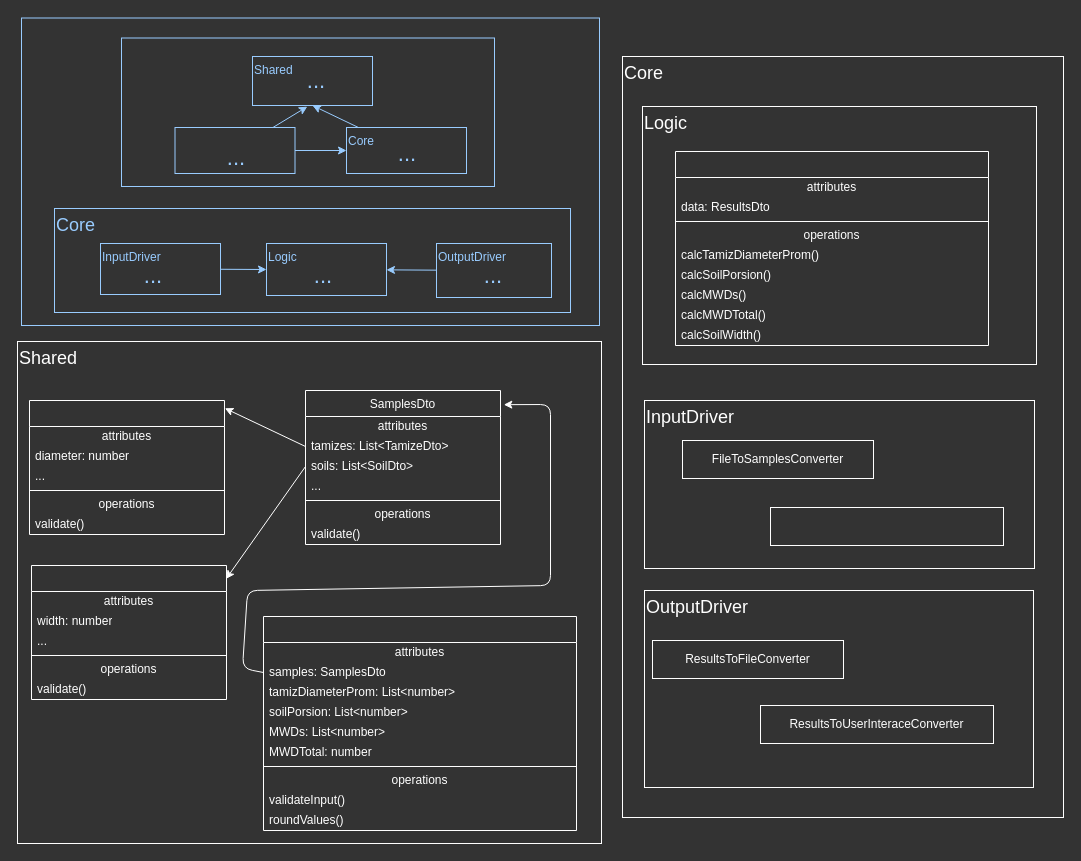
Some shapes in this 1081 by 861 pixel diagram are drawn without their labels. Here are the shapes that lost their labels. From the top down, the box of each, then its label:
(120, 37, 494, 186): Application
(174, 126, 295, 174): UserInterface
(20, 17, 600, 326): Resume
(674, 150, 988, 346): SamplesToResultsCalculator
(28, 400, 224, 534): TamizDto
(770, 506, 1004, 546): UserInterfaceToSamplesConverter
(30, 564, 226, 700): SoilDto
(262, 616, 576, 830): ResultsDto
